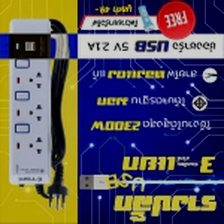three_eye_plug: (4, 15, 57, 190)
